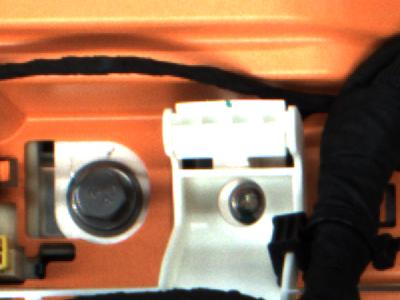nut_b: (53, 152, 154, 245)
